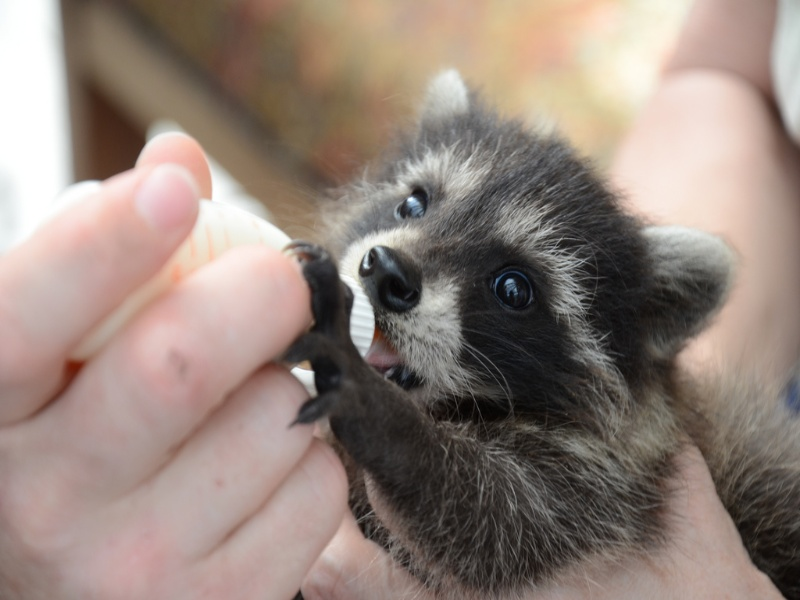raccoon: (275, 65, 719, 577)
